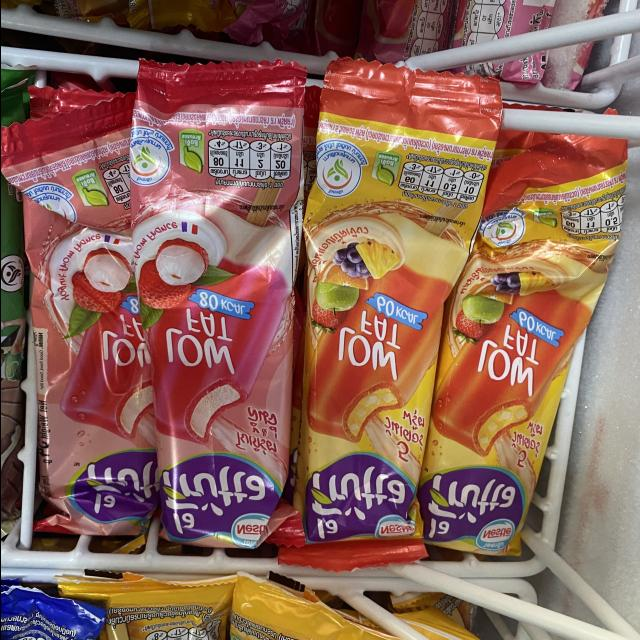plastik: (278, 59, 500, 571), (418, 132, 626, 556), (130, 61, 305, 549), (0, 94, 158, 535)
